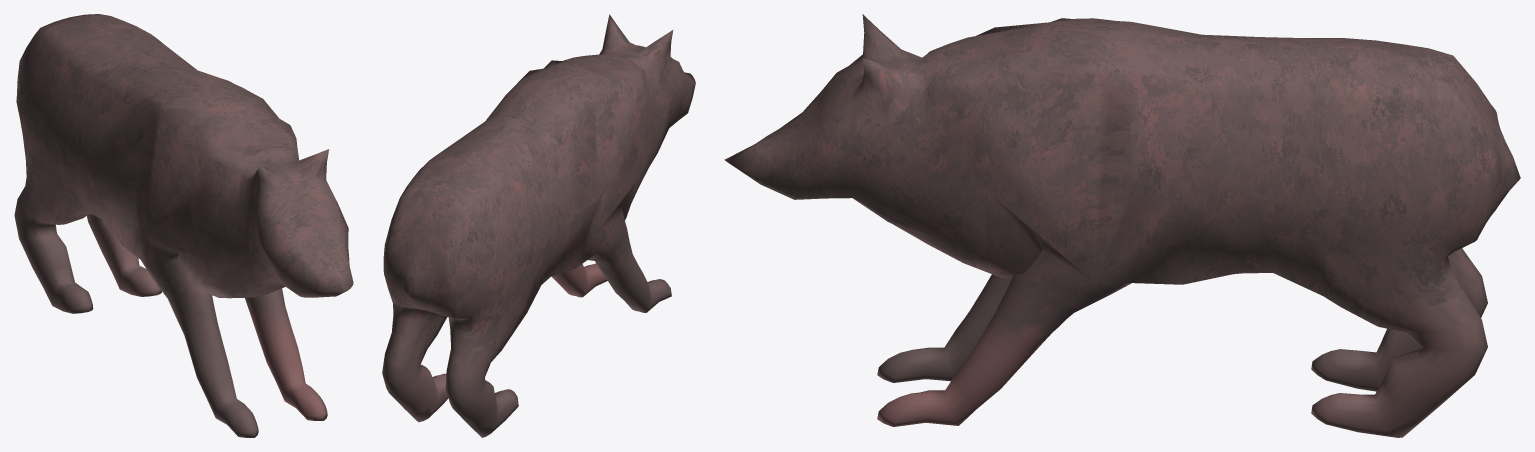
Rendered from piesblend_000033.obj.
3 renders of one model, left to right at view 1: azimuth 30°, elevation 25°; view 2: azimuth 150°, elevation 25°; view 3: azimuth 270°, elevation 25°, orthographic. The views are drawn at different scales.
Parts seen in each view (by area): view 1: Cube; view 2: Cube; view 3: Cube.
Boxes of the visible parts, left/top/right/bottom form: Cube: left=14, top=14, right=353, bottom=437; Cube: left=382, top=14, right=695, bottom=437; Cube: left=724, top=14, right=1520, bottom=437.
Bounding box in the file's own units: 2.55 × 5.11 × 9.59.
Materials: 1 (1 with a texture image).
